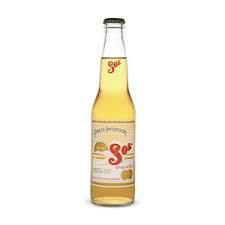beer: (92, 18, 135, 206)
